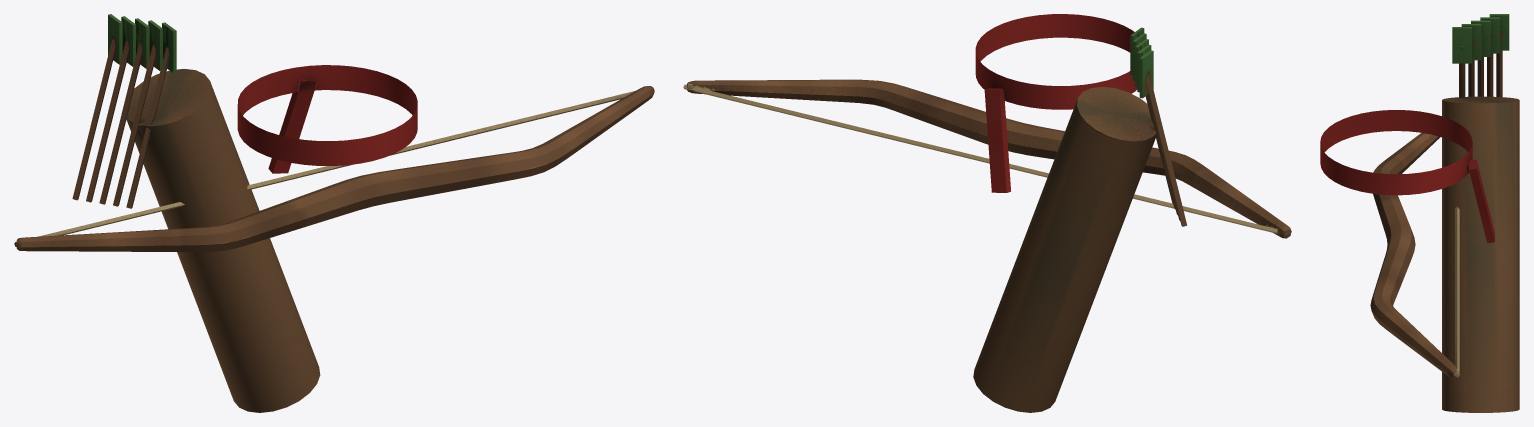
File: npc_batedora.glb
3 renders of one model, left to right at view 1: azimuth 30°, elevation 25°; view 2: azimuth 150°, elevation 25°; view 3: azimuth 270°, elevation 25°, orthographic. The views are drawn at different scales.
Parts seen in each view (by area): view 1: batedora_Spine2_peca, batedora_LeftHand_peca, batedora_Head_peca; view 2: batedora_Spine2_peca, batedora_LeftHand_peca, batedora_Head_peca; view 3: batedora_Spine2_peca, batedora_Head_peca, batedora_LeftHand_peca.
Part boxes in pixels (x1,y1,x2,y2): batedora_Spine2_peca: [72, 14, 320, 412]; batedora_LeftHand_peca: [14, 86, 654, 252]; batedora_Head_peca: [237, 65, 417, 173]; batedora_Spine2_peca: [973, 27, 1187, 412]; batedora_LeftHand_peca: [683, 79, 1291, 238]; batedora_Head_peca: [975, 14, 1137, 192]; batedora_Spine2_peca: [1442, 14, 1519, 412]; batedora_Head_peca: [1320, 110, 1494, 243]; batedora_LeftHand_peca: [1370, 133, 1459, 378].
Size of the model in its own units: 0.801 by 0.49 by 0.2566.
3 materials, 3 textured.
